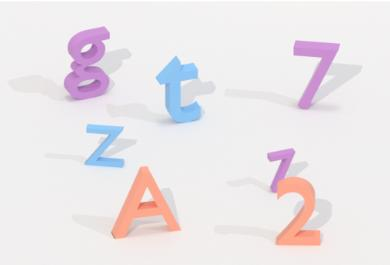2: (275, 174, 323, 249)
7: (290, 36, 343, 116), (263, 144, 299, 196)
A: (110, 166, 187, 242)
Z: (81, 119, 131, 173)
g: (61, 21, 113, 105)
t: (152, 51, 206, 128)
